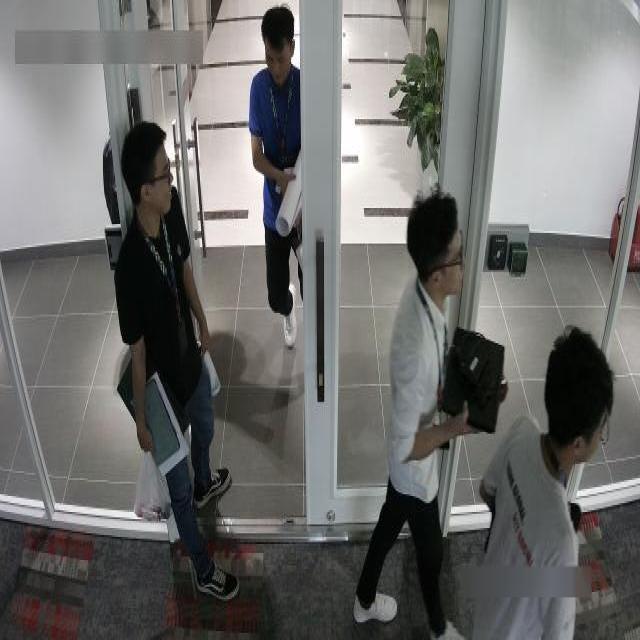bare_hand: (441, 396, 482, 455), (128, 407, 160, 471), (263, 158, 299, 197), (195, 318, 223, 366)
